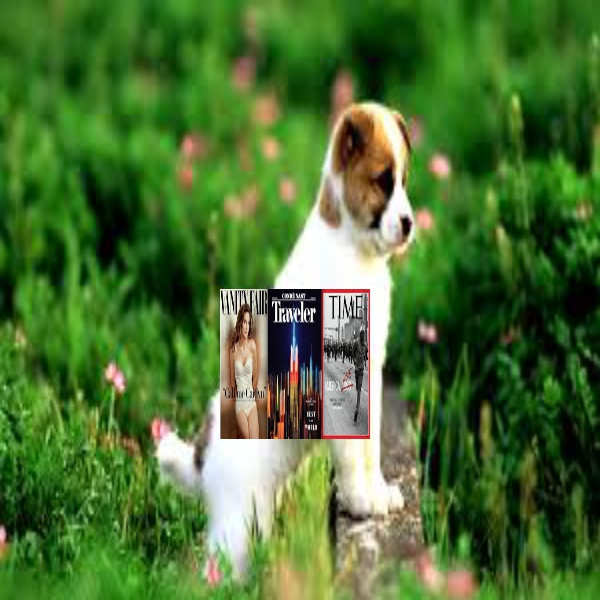time_cover: (322, 291, 371, 440)
